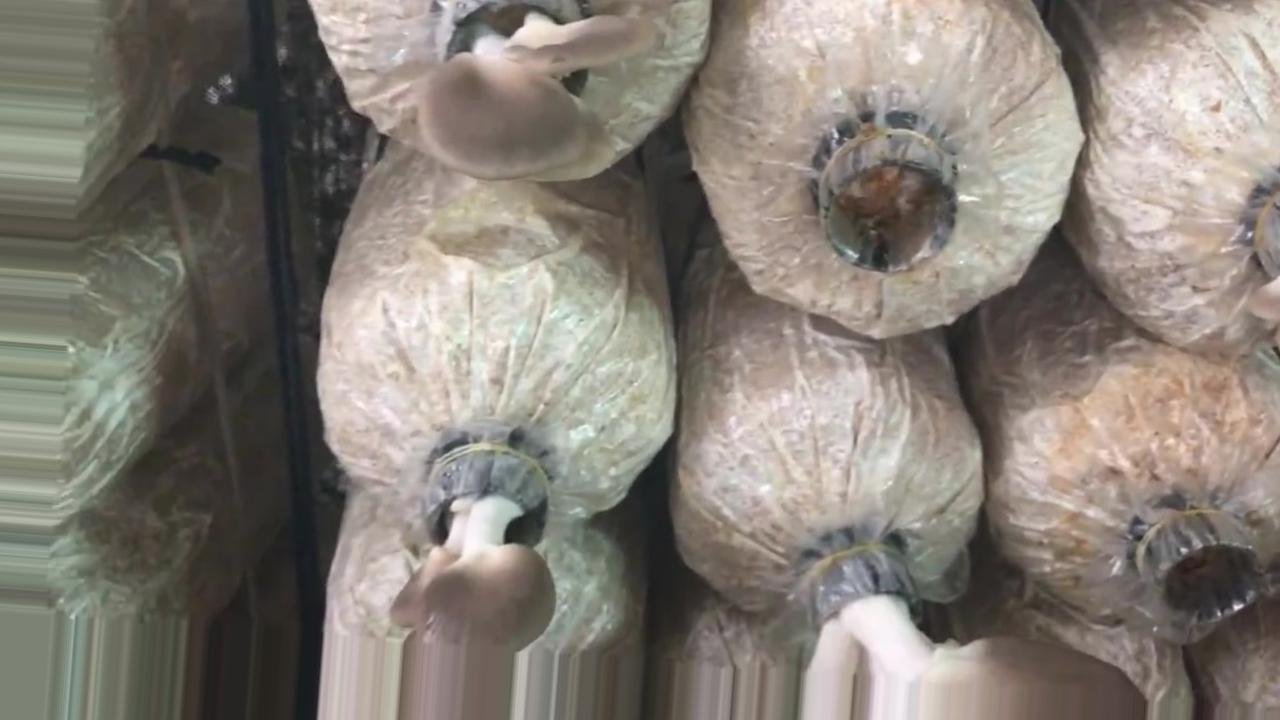nam: (800, 537, 1149, 720), (391, 427, 555, 720), (413, 1, 659, 192)
